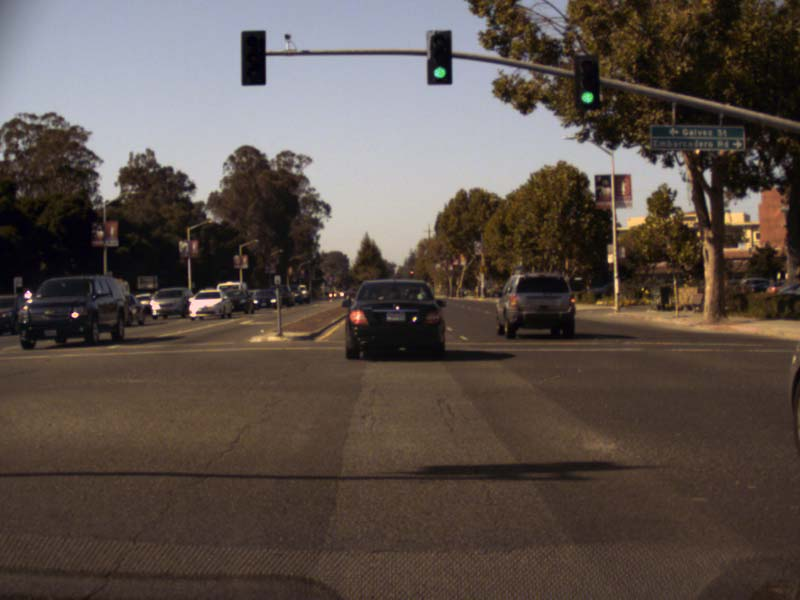Green: (426, 30, 450, 83), (575, 55, 599, 107)
